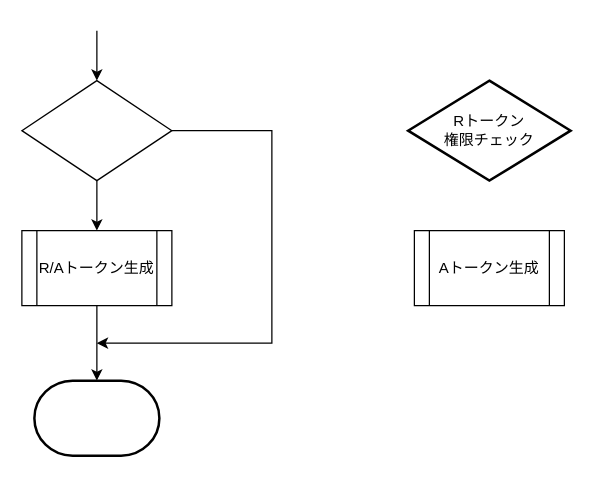
The diagram is 594 pixels wide and 479 high, and some of its shapes have lost their labels. Each missing label, with the box of its shape:
レスポンス: (32, 379, 160, 456)
認証チェック: (21, 79, 172, 181)
